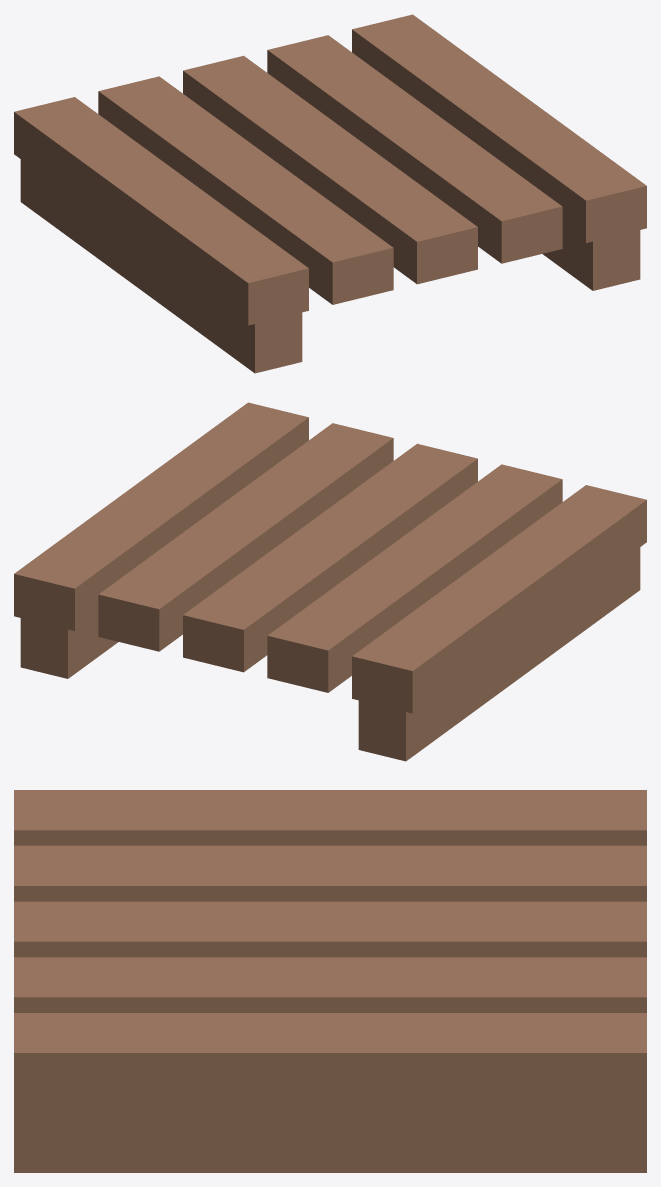
Rendered from pallet.obj.
3 renders of one model, top to bottom at view 1: azimuth 30°, elevation 25°; view 2: azimuth 150°, elevation 25°; view 3: azimuth 270°, elevation 25°, orthographic. The views are drawn at different scales.
Visible parts, largest first — view 1: pallet; view 2: pallet; view 3: pallet.
Boxes of the visible parts, x1=… form: pallet: x1=14, y1=14, x2=646, y2=373; pallet: x1=14, y1=402, x2=646, y2=761; pallet: x1=14, y1=790, x2=646, y2=1172.
Size of the model in its own units: 1.18 by 0.26 by 1.2.
